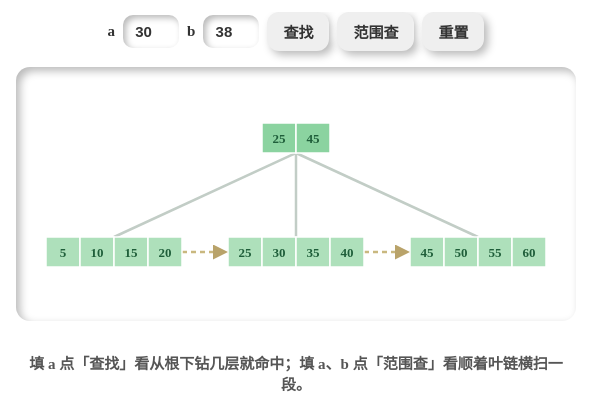
BTreeViz B+ 树互动 › TC-VIZ-BTREEVIZ-05 查找 33：status 含「不存在」、hit 0
Replace the text in the number field with class "in-a" with "33" at (151, 32), box [123, 15, 179, 48]
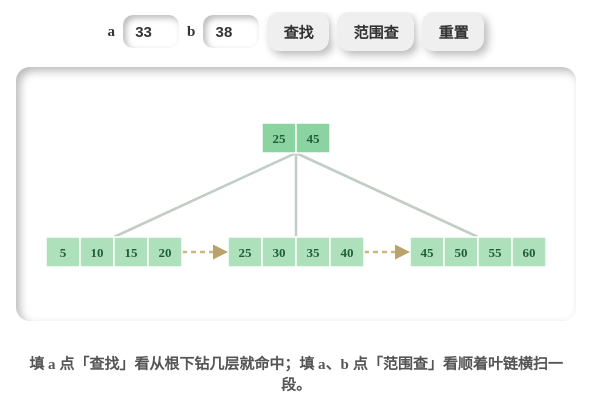
Click the button "查找" at (298, 32), box [267, 12, 329, 51]
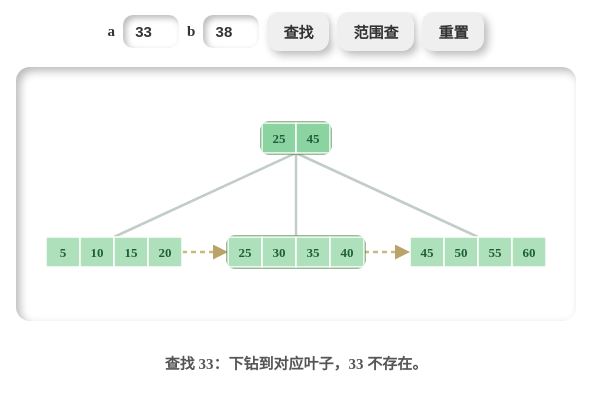
Result: the message with class "status" shows "不存在" at [165, 356, 427, 372]
